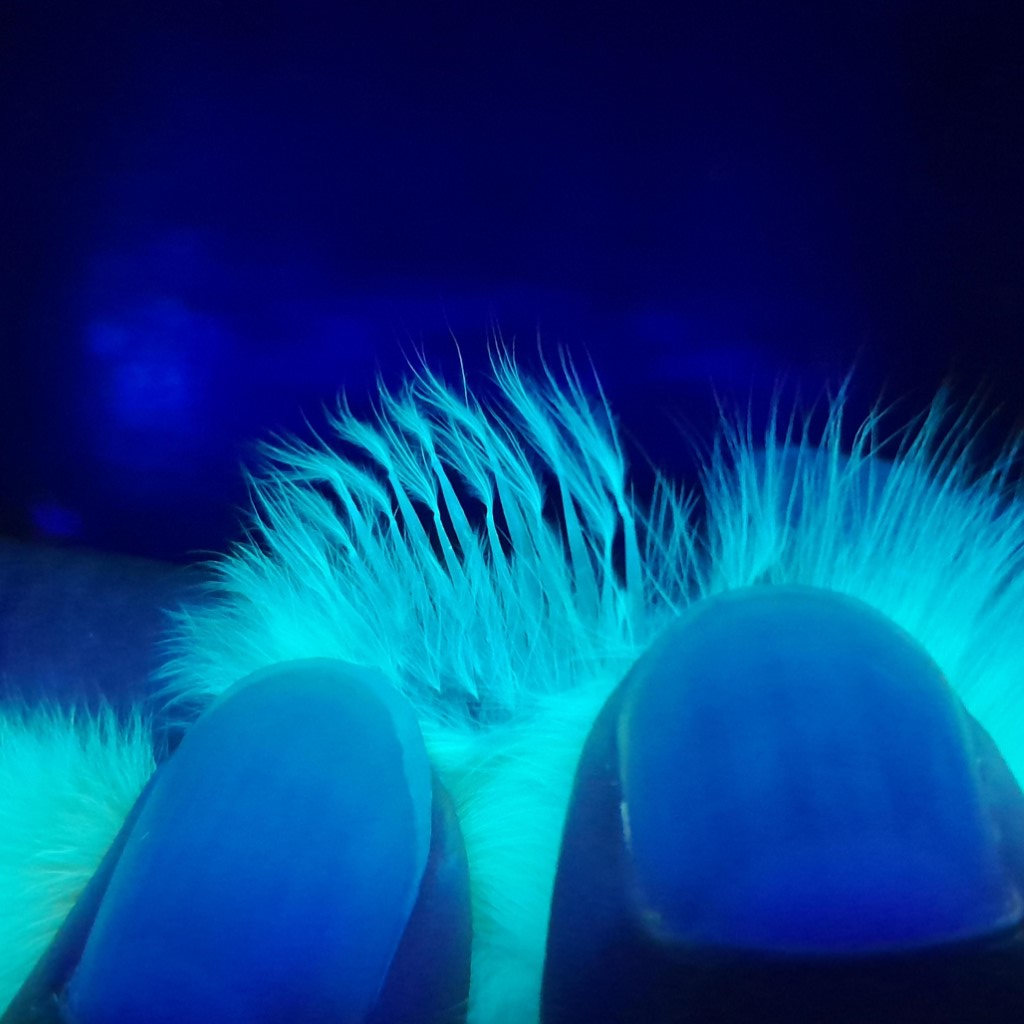female: (324, 436, 661, 748)
